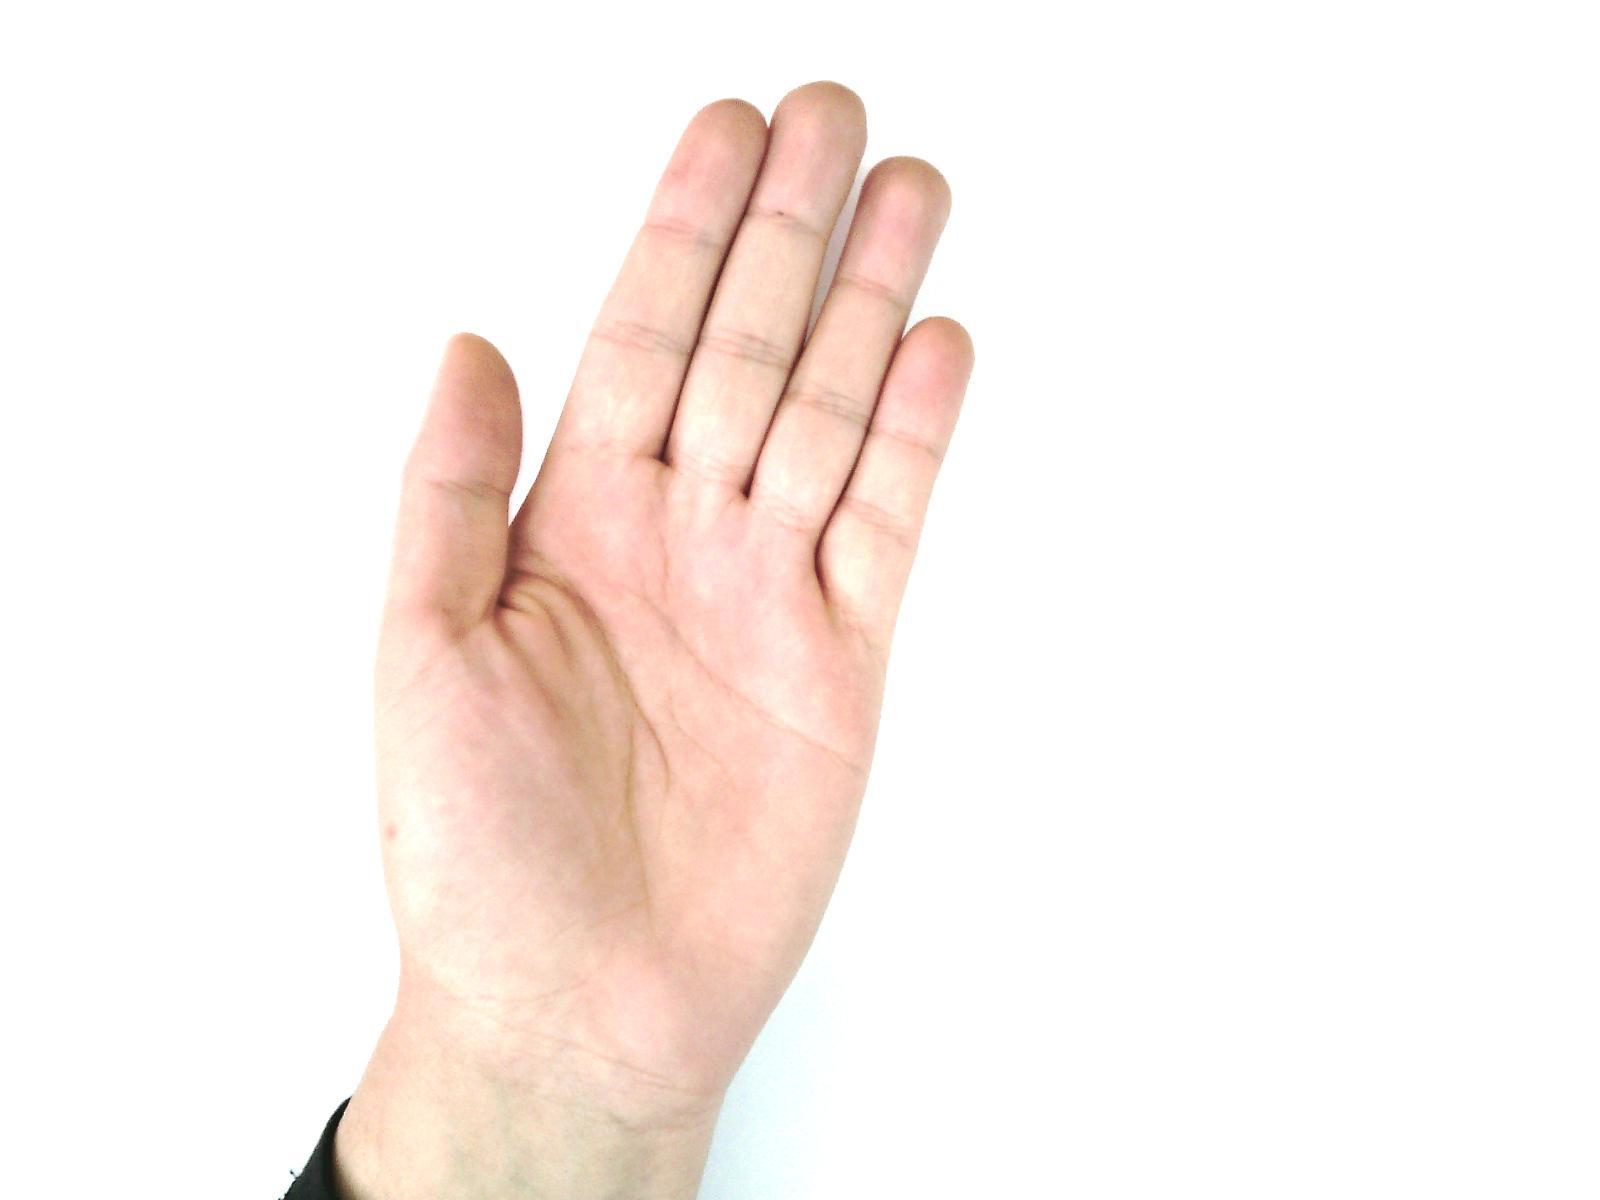hand: (370, 82, 978, 1095)
